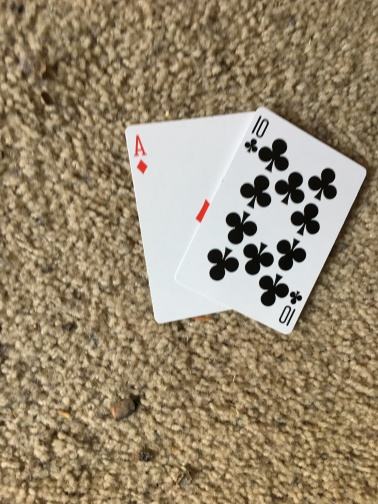ace: (121, 119, 236, 322)
ten: (176, 106, 368, 336)
